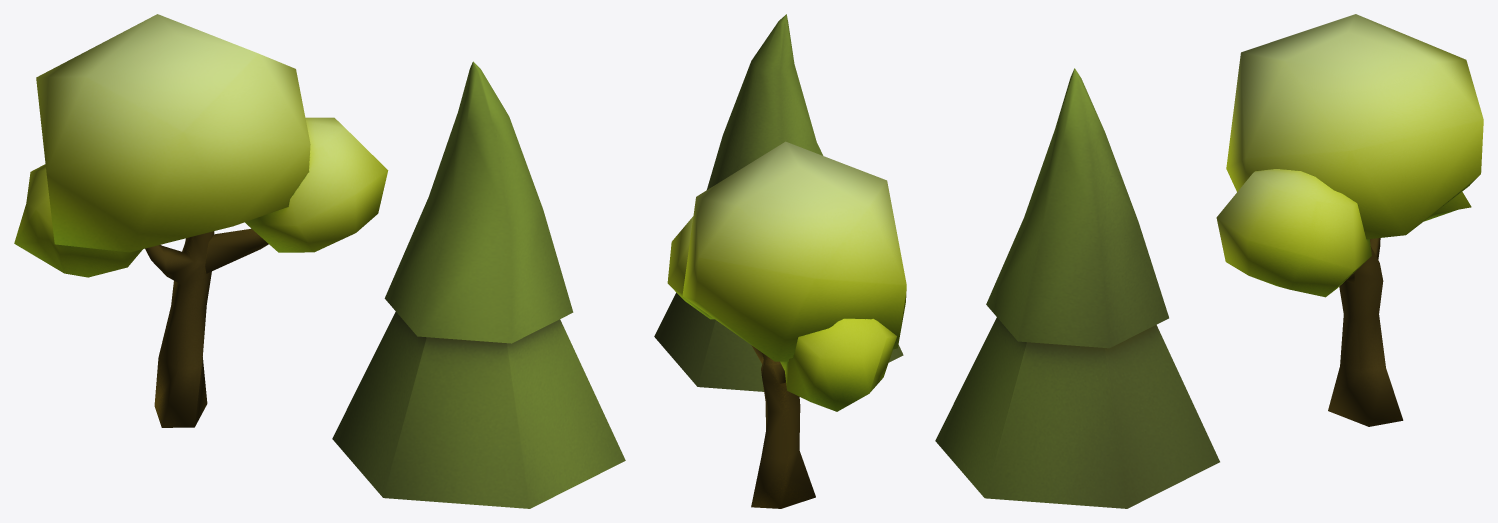
File: two_tree_02.fbx
3 views of the same model, side by side, from view 1: azimuth 30°, elevation 25°; view 2: azimuth 150°, elevation 25°; view 3: azimuth 270°, elevation 25° (orthographic). The views are drawn at different scales.
Parts seen in each view (by area): view 1: two_tree02; view 2: two_tree02; view 3: two_tree02.
Boxes of the visible parts, x1,y1,x2,y2 form: two_tree02: [14, 14, 625, 508]; two_tree02: [654, 14, 906, 508]; two_tree02: [935, 14, 1483, 508].
Size of the model in its own units: 389 by 461 by 383.
Materials: 2 (2 with a texture image).
